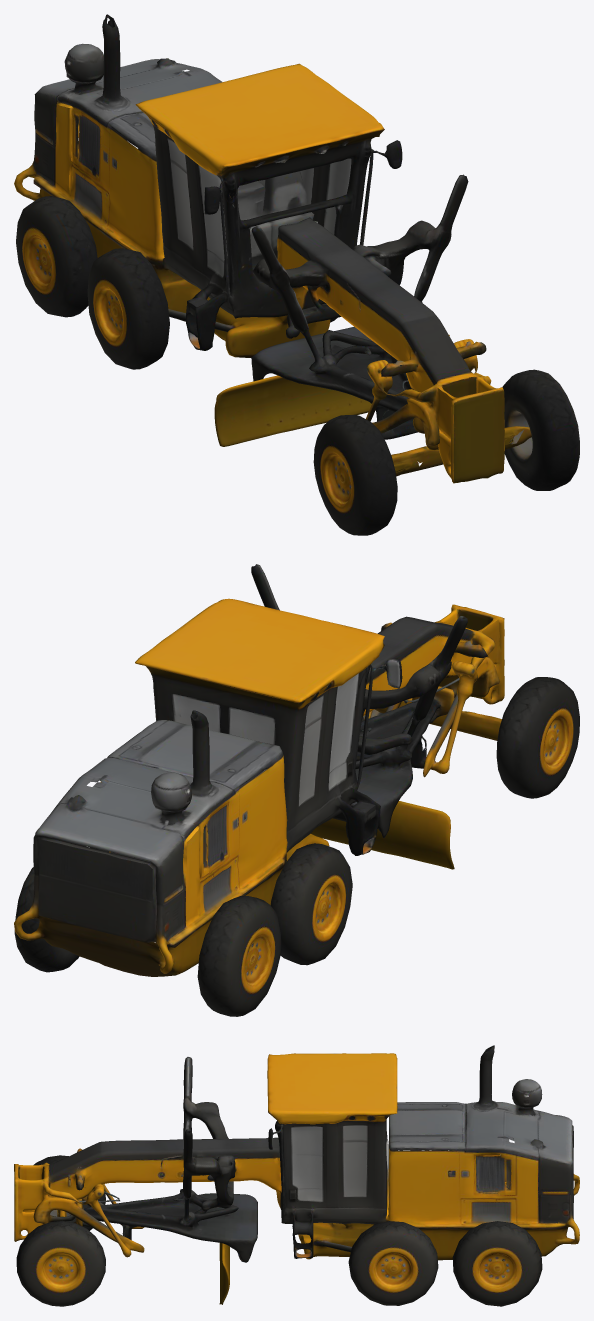
The model's file is grader.glb.
3 renders of one model, top to bottom at view 1: azimuth 30°, elevation 25°; view 2: azimuth 150°, elevation 25°; view 3: azimuth 270°, elevation 25°, orthographic. The views are drawn at different scales.
Parts seen in each view (by area): view 1: tripo_node_497aed9c; view 2: tripo_node_497aed9c; view 3: tripo_node_497aed9c.
Part boxes in pixels (bbox=[...]): tripo_node_497aed9c: bbox=[14, 14, 579, 535]; tripo_node_497aed9c: bbox=[14, 564, 579, 1016]; tripo_node_497aed9c: bbox=[14, 1045, 579, 1306].
Bounding box in the file's own units: 34.19 × 40.32 × 98.01.
1 material, 1 textured.
